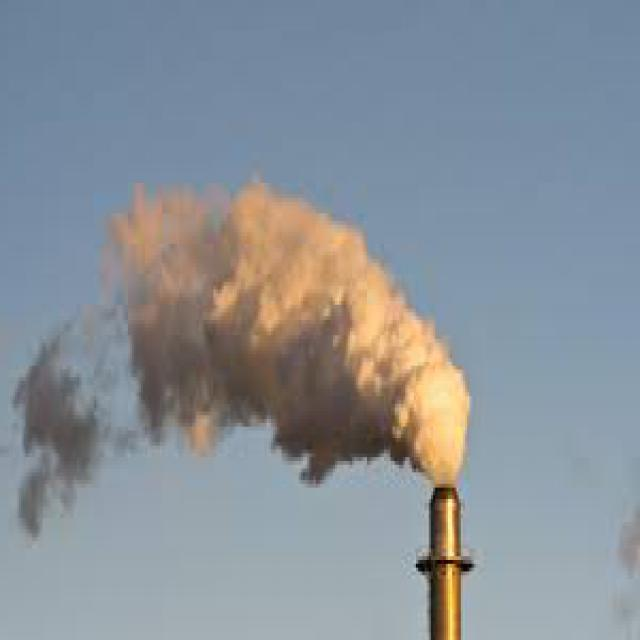Smoke: (0, 188, 522, 516), (603, 440, 640, 640)
